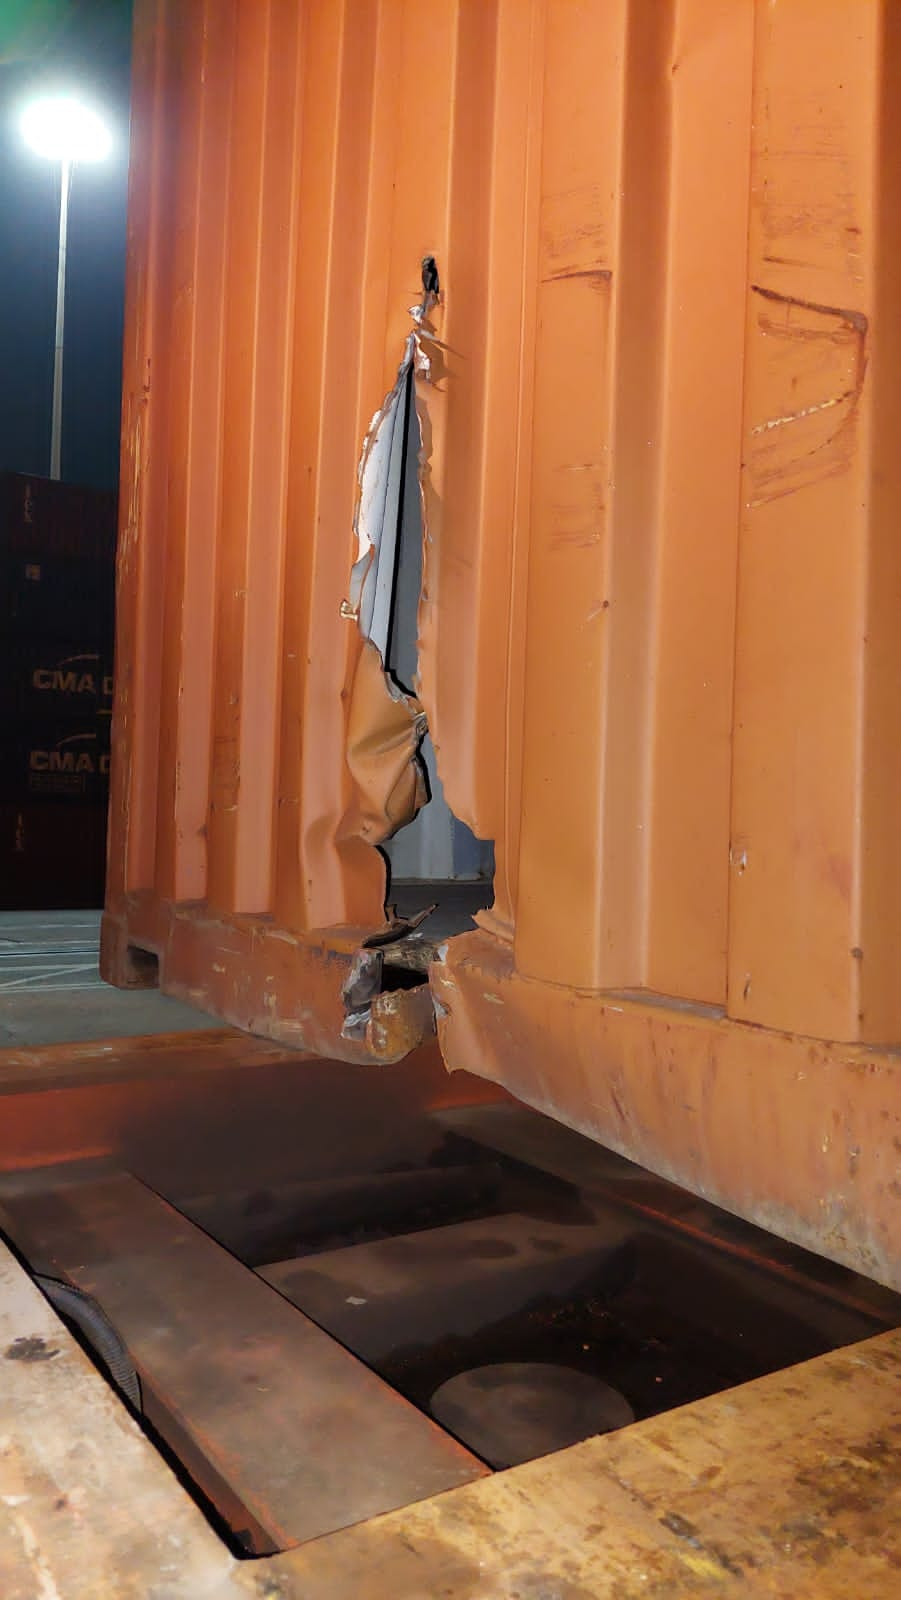cut: (303, 249, 505, 1018)
